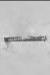Y2: (5, 1, 46, 74)
